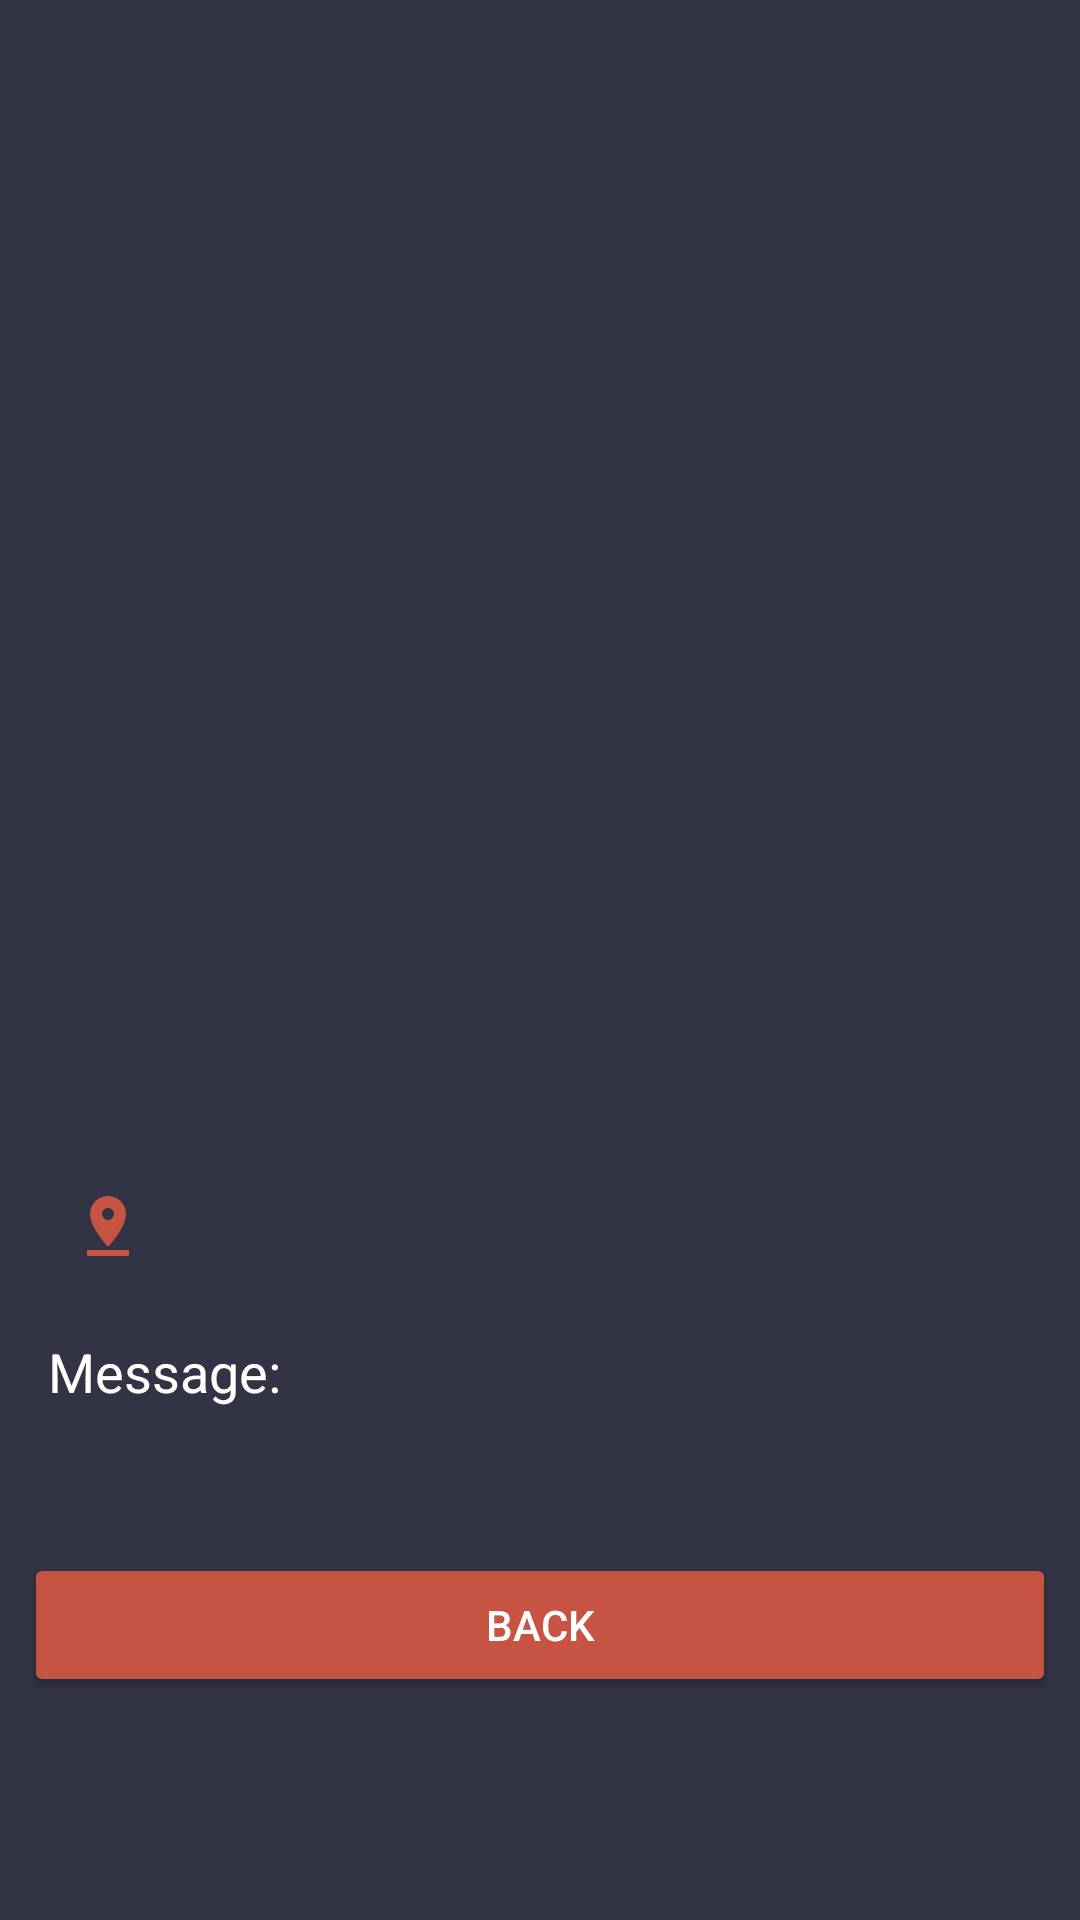

Icon click points for this 1080 × 1920 phone screenshot, format (x=x, y=y):
pin drop: (x=108, y=1226)
